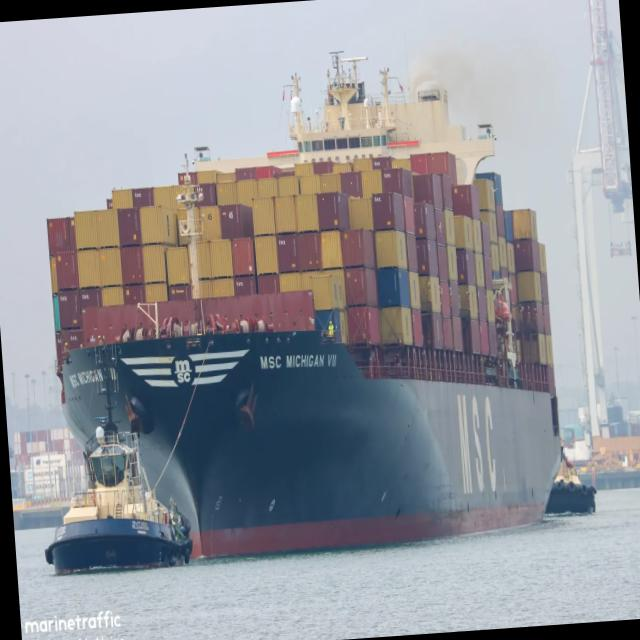Cargo: (47, 57, 559, 556)
Tug: (45, 346, 192, 573), (545, 446, 596, 514)
